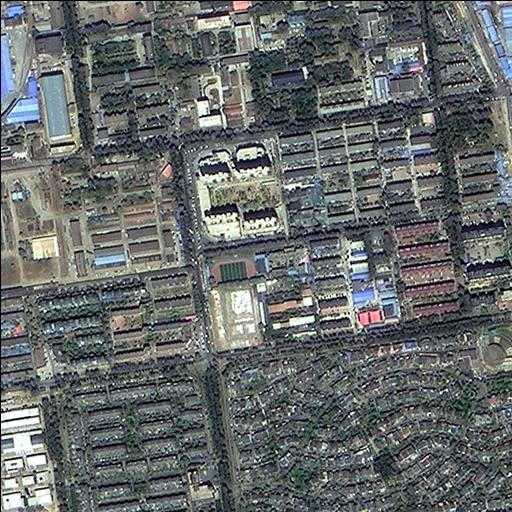school: (194, 243, 309, 286)
